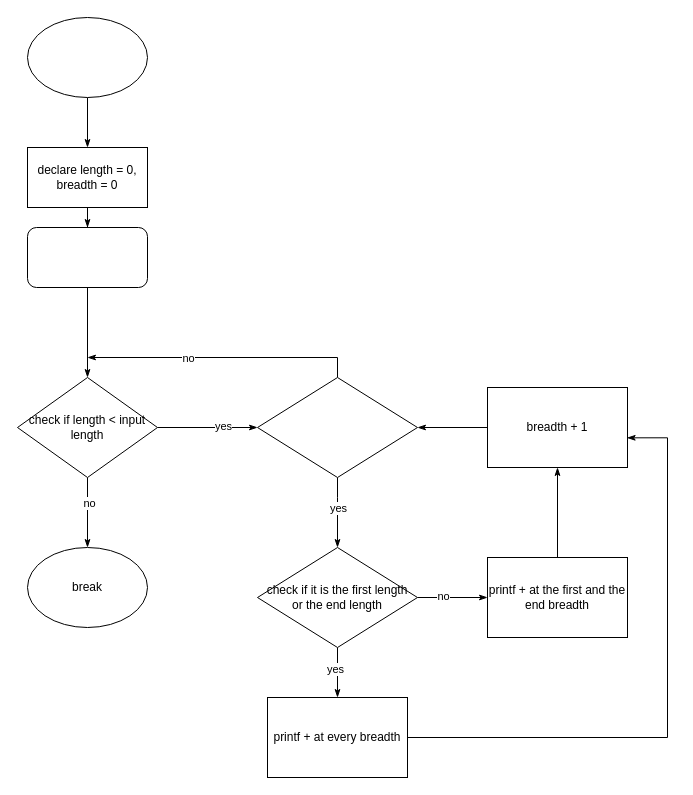
Some shapes in this 693 by 795 pixel diagram are drawn without their labels. The centre of each missing label's shape, as x and y in pixels:
"check if breadth < input breadth" goes at [337,427].
"function starting" goes at [87,57].
"scann input" goes at [87,257].
